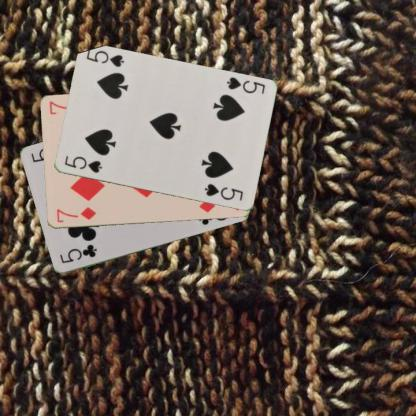5c: (57, 242, 98, 264)
5s: (61, 153, 104, 175), (224, 74, 266, 96)
7d: (54, 205, 97, 224)
